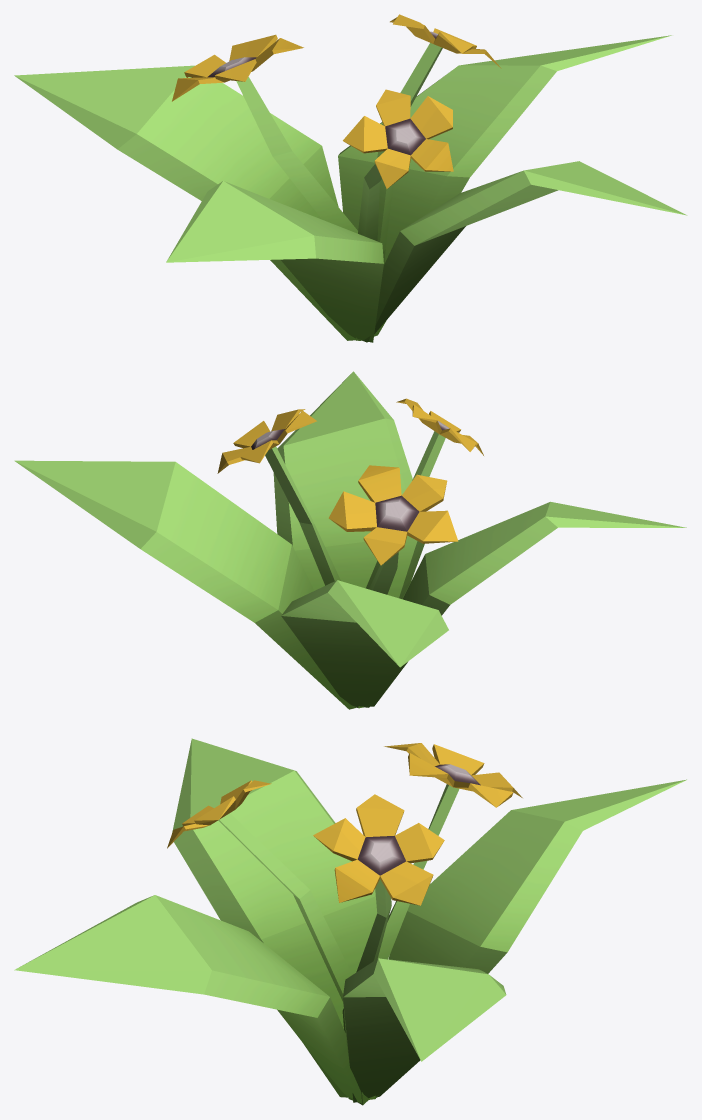
Rendered from pack01_foliage_30.fbx.
3 views of the same model, one above another, from view 1: azimuth 30°, elevation 25°; view 2: azimuth 150°, elevation 25°; view 3: azimuth 270°, elevation 25° (orthographic). The views are drawn at different scales.
Visible parts, largest first — view 1: Flower_bush_red; view 2: Flower_bush_red; view 3: Flower_bush_red.
Boxes of the visible parts, box(x1,y1,x2,y2) form: Flower_bush_red: box(14, 14, 687, 342); Flower_bush_red: box(14, 371, 686, 709); Flower_bush_red: box(14, 738, 686, 1105).
Size of the model in its own units: 135 by 62.64 by 119.
Materials: 1 (1 with a texture image).
